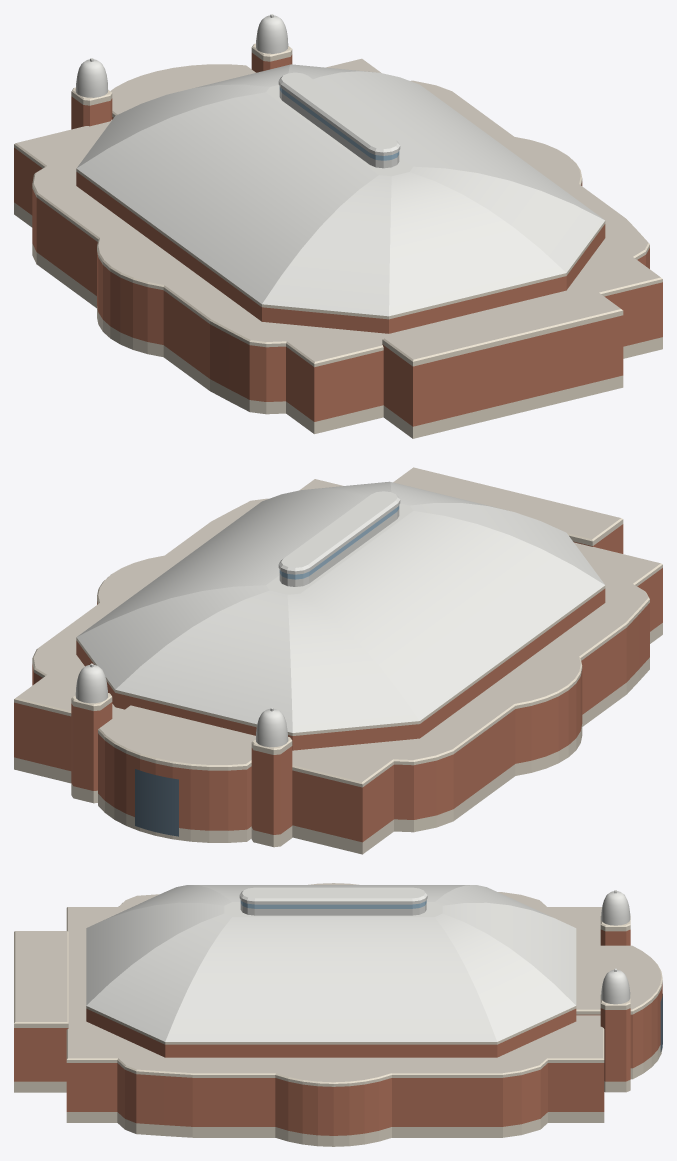
Rendered from dal-ariat-arena.glb.
3 views of the same model, one above another, from view 1: azimuth 30°, elevation 25°; view 2: azimuth 150°, elevation 25°; view 3: azimuth 270°, elevation 25° (orthographic). The views are drawn at different scales.
Parts seen in each view (by area): view 1: Ariat Arena; view 2: Ariat Arena; view 3: Ariat Arena.
Boxes of the visible parts, left/top/right/bottom form: Ariat Arena: left=14, top=14, right=662, bottom=438; Ariat Arena: left=14, top=467, right=662, bottom=854; Ariat Arena: left=14, top=883, right=662, bottom=1146.
Size of the model in its own units: 126 by 45.1 by 173.
